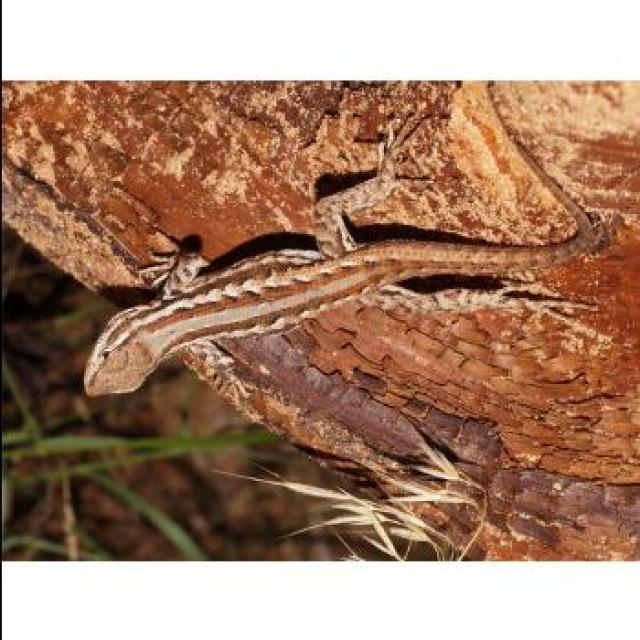Lizard: (83, 142, 591, 402)
